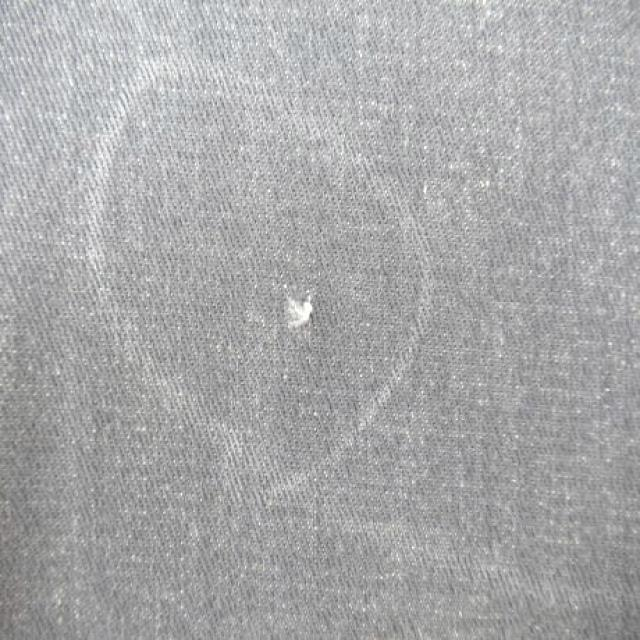Thread_other: (224, 227, 362, 394)
